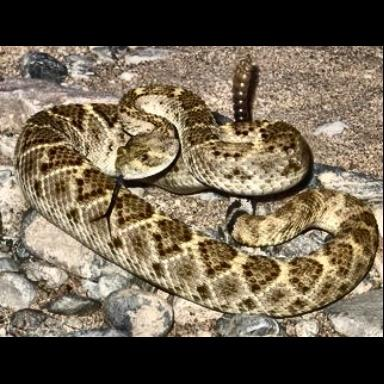snake: (13, 86, 380, 319)
